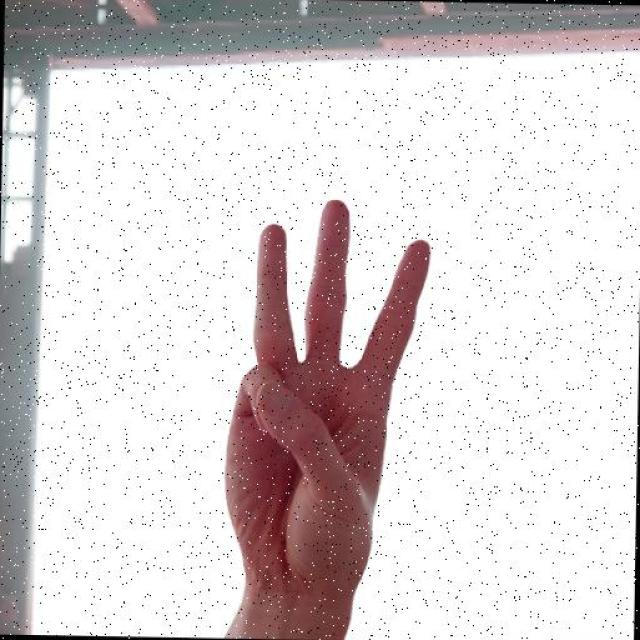W: (221, 195, 445, 604)
